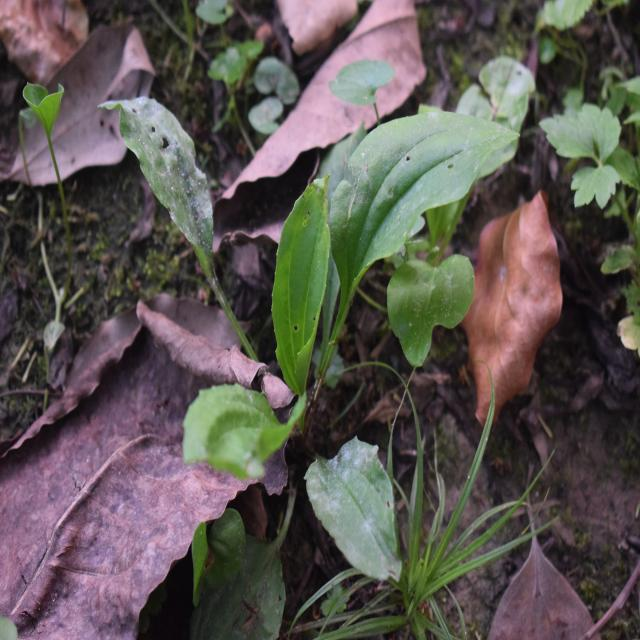plantain: (144, 92, 451, 489)
